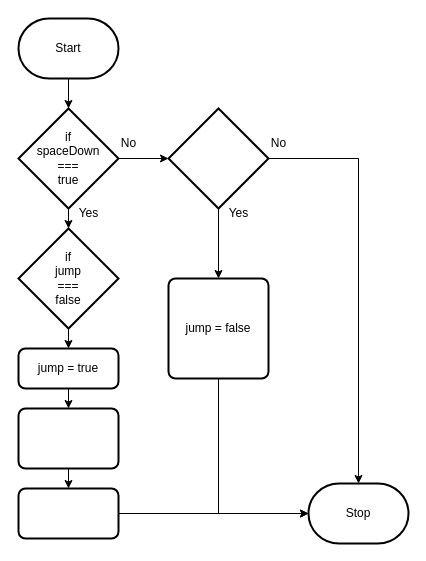
The diagram is 426 pixels wide and 561 high, and some of its shapes have lost their labels. Each missing label, with the centre of its shape:
"bird.velocity.y = 100" goes at [68,438].
"if spaceUp === true" goes at [218,158].
"wait (1000)" goes at [68,513].
